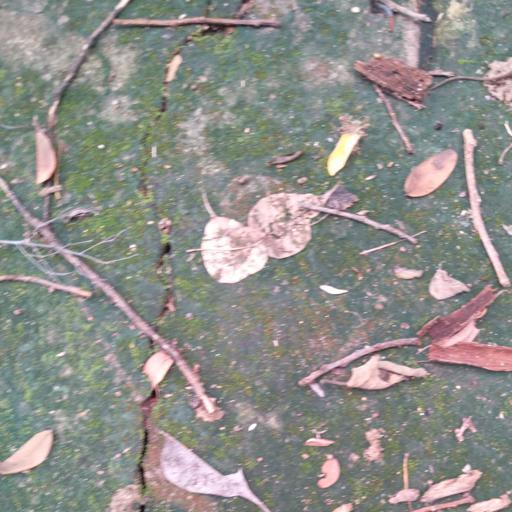algae: (1, 8, 511, 512)
